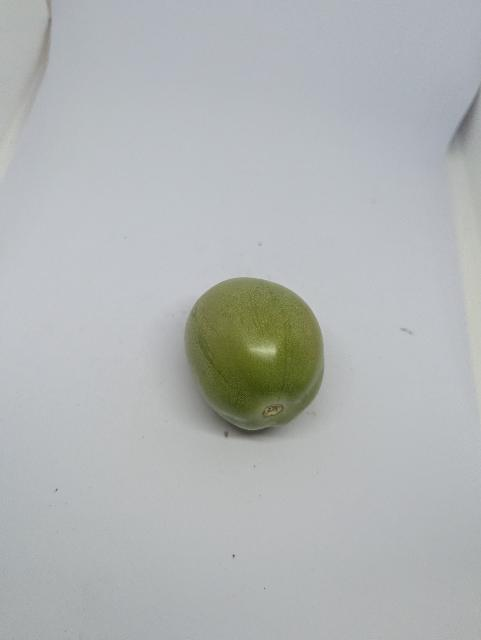green: (181, 273, 327, 432)
